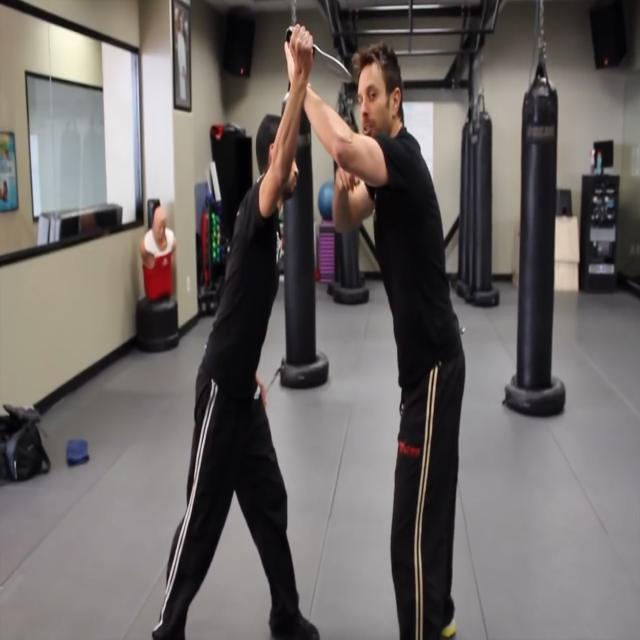knife: (315, 42, 355, 89)
